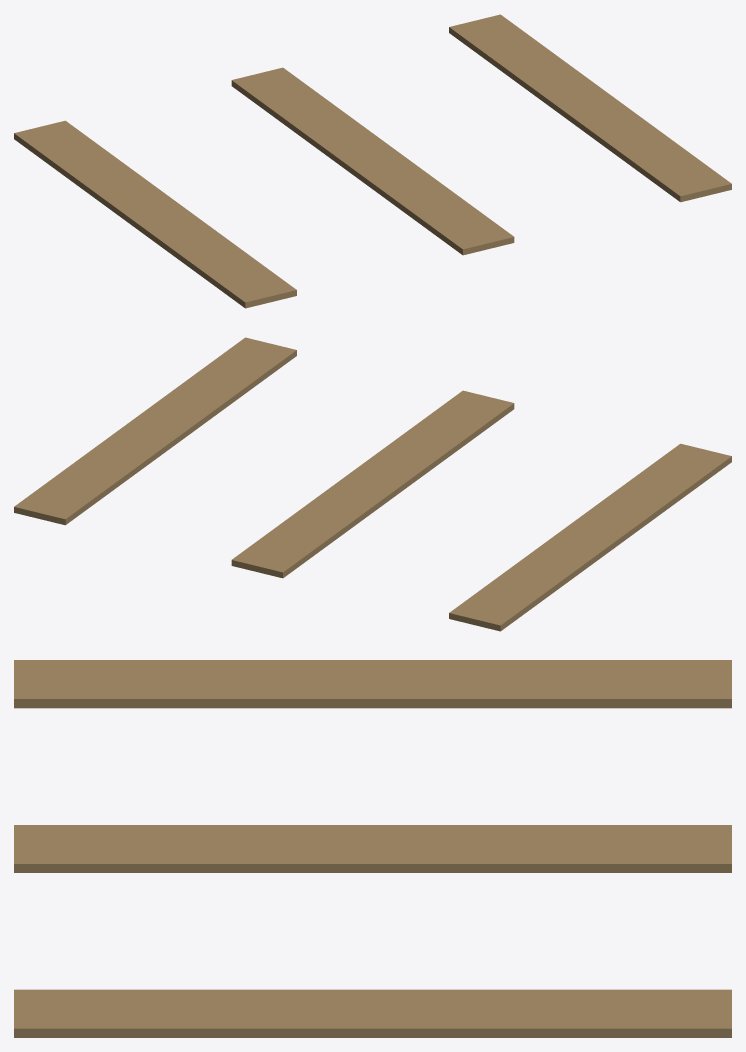
File: kaiyang-ground-LOD2.glb
3 renders of one model, top to bottom at view 1: azimuth 30°, elevation 25°; view 2: azimuth 150°, elevation 25°; view 3: azimuth 270°, elevation 25°, orthographic. The views are drawn at different scales.
Parts seen in each view (by area): view 1: kaiyang_ground_C; view 2: kaiyang_ground_C; view 3: kaiyang_ground_C.
Part boxes in pixels (left/top/right/bottom): kaiyang_ground_C: left=14, top=14, right=731, bottom=308; kaiyang_ground_C: left=14, top=337, right=731, bottom=631; kaiyang_ground_C: left=14, top=660, right=731, bottom=1037.
Size of the model in its own units: 17 by 0.2 by 14.
